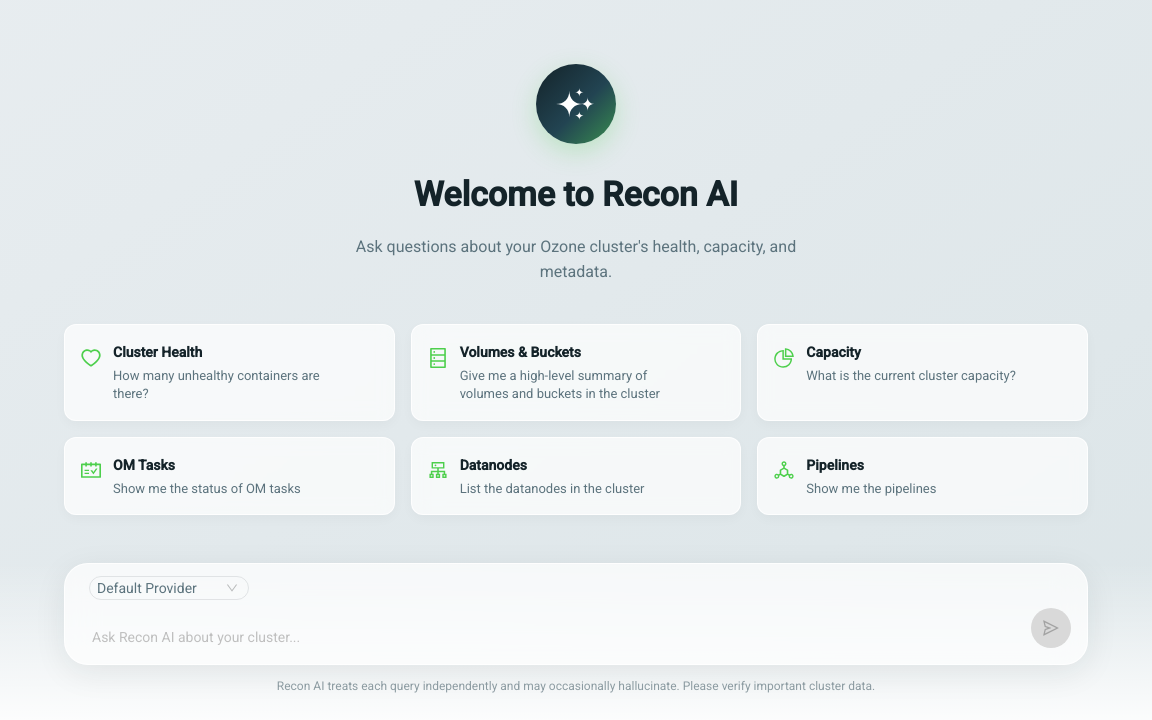
Test: Assistant Tests › shows error bubble on 503 busy
(page scrolled)
Expected: the heading "Welcome to Recon AI" is shown, [414,174,738,214]
Type "Hello" into the text box with placeholder "Ask Recon AI about your cluster...".
click(550, 637); type("Hello")  # box [81,622,1019,652]
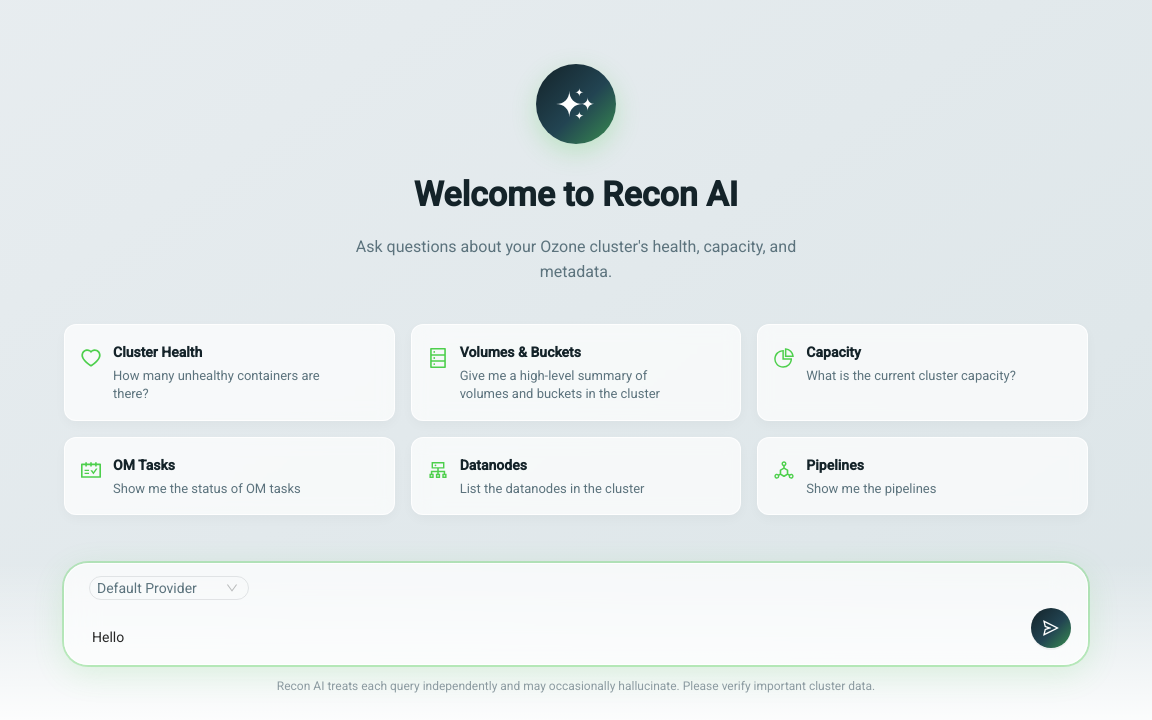
Click the button named "send".
click(1051, 628)  # box [1031,608,1071,648]
(page scrolled)
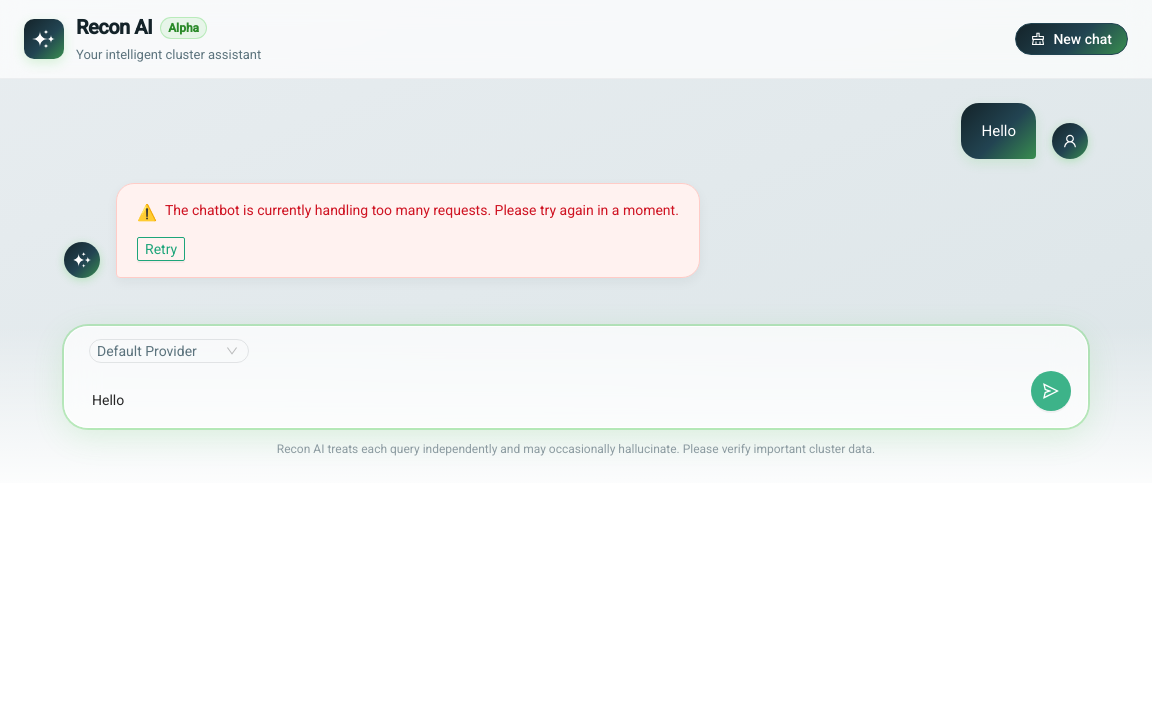
Expected: the text "The chatbot is currently handling too many requests. Please try again in a moment." is shown, [165,202,679,218]
